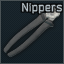Nippers: (0, 0, 64, 64)
